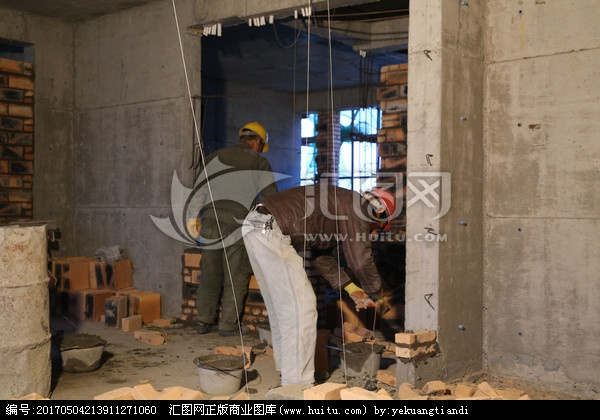red: (361, 188, 394, 229)
yellow: (238, 120, 268, 153)
